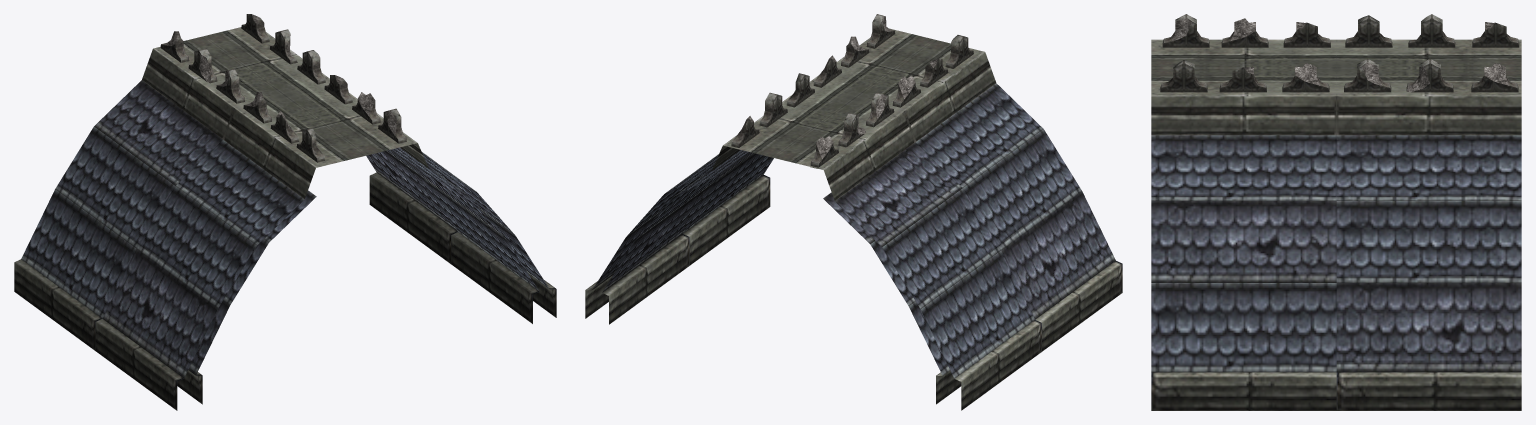
3 renders of one model, left to right at view 1: azimuth 30°, elevation 25°; view 2: azimuth 150°, elevation 25°; view 3: azimuth 270°, elevation 25°, orthographic. The views are drawn at different scales.
Parts seen in each view (by area): view 1: object24; view 2: object24; view 3: object24.
Boxes of the visible parts, x1,y1,x2,y2 form: object24: (14, 14, 556, 410); object24: (585, 14, 1122, 410); object24: (1151, 14, 1521, 410).
Bounding box in the file's own units: 346 × 204 × 257.
2 materials, 2 textured.
